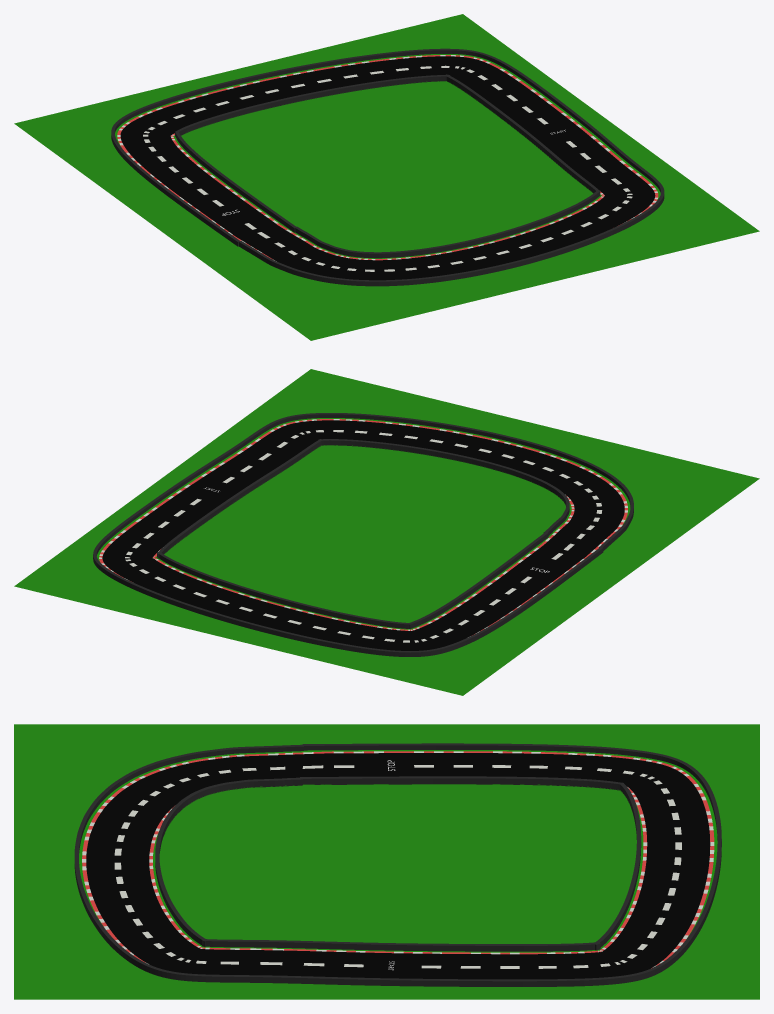
File: racetrack.gltf
The picture shows the model from 3 angles, top to bottom: view 1: azimuth 30°, elevation 25°; view 2: azimuth 150°, elevation 25°; view 3: azimuth 270°, elevation 25°; orthographic projection. The views are drawn at different scales.
Visible parts, largest first — view 1: Plane.001, Plane, Cube_Cube.002, Cube.001_Cube.003, Plane.002, Plane.003; view 2: Plane.001, Plane, Cube_Cube.002, Cube.001_Cube.003, Plane.002, Plane.003; view 3: Plane.001, Plane, Cube_Cube.002, Cube.001_Cube.003, Plane.002, Plane.003.
Boxes of the visible parts, <box> form: Plane.001: <box>14,14,759,340</box>; Plane: <box>115,54,660,280</box>; Cube_Cube.002: <box>111,48,664,286</box>; Cube.001_Cube.003: <box>175,74,600,258</box>; Plane.002: <box>530,123,585,142</box>; Plane.003: <box>203,202,258,222</box>; Plane.001: <box>14,369,759,695</box>; Plane: <box>97,418,630,650</box>; Cube_Cube.002: <box>93,413,633,656</box>; Cube.001_Cube.003: <box>157,439,569,628</box>; Plane.002: <box>185,480,240,500</box>; Plane.003: <box>511,560,566,580</box>; Plane.001: <box>14,724,759,999</box>; Plane: <box>79,750,717,979</box>; Cube_Cube.002: <box>74,743,721,986</box>; Cube.001_Cube.003: <box>155,776,641,951</box>; Plane.002: <box>371,953,410,978</box>; Plane.003: <box>372,753,409,776</box>.
Size of the model in its own units: 137 by 1.99 by 158.
